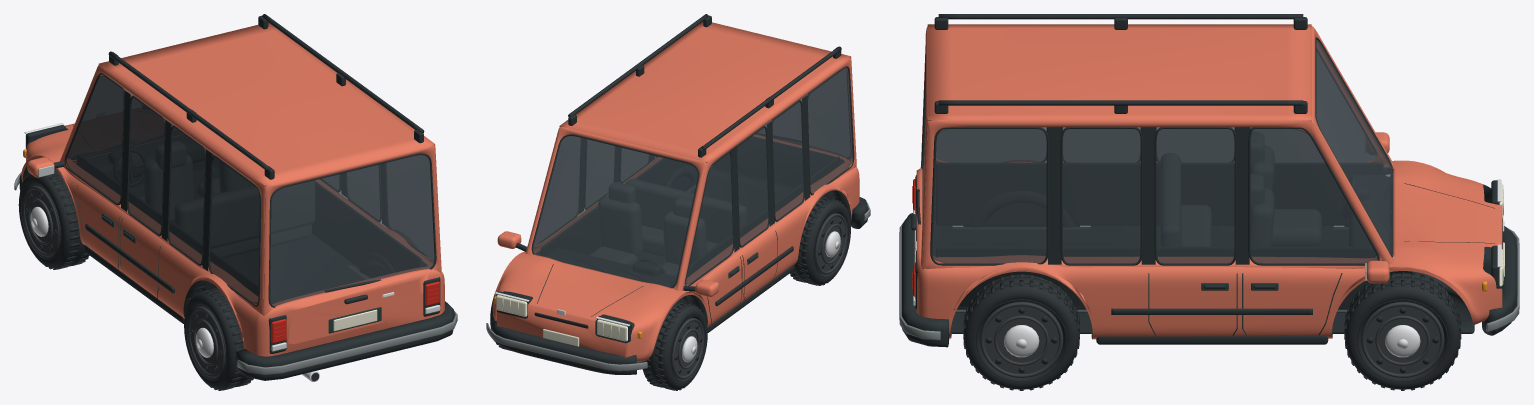
The model's file is minibus.fbx.
The picture shows the model from 3 angles, left to right: view 1: azimuth 30°, elevation 25°; view 2: azimuth 150°, elevation 25°; view 3: azimuth 270°, elevation 25°; orthographic projection. The views are drawn at different scales.
Parts seen in each view (by area): view 1: Body, Wheel_FL_Mesh, Wheel_RL_Mesh, Wheel_RR_Mesh; view 2: Body, Wheel_FL_Mesh, Wheel_RL_Mesh, Wheel_RR_Mesh; view 3: Body, Wheel_FR_Mesh, Wheel_RR_Mesh, Wheel_RL_Mesh.
Boxes of the visible parts, x1=… form: Body: x1=14, y1=14, x2=457, y2=381; Wheel_FL_Mesh: x1=18, y1=168, x2=89, y2=269; Wheel_RL_Mesh: x1=184, y1=287, x2=253, y2=390; Wheel_RR_Mesh: x1=360, y1=253, x2=394, y2=277; Body: x1=486, y1=14, x2=870, y2=374; Wheel_FL_Mesh: x1=641, y1=301, x2=707, y2=390; Wheel_RL_Mesh: x1=790, y1=196, x2=850, y2=285; Wheel_RR_Mesh: x1=666, y1=166, x2=697, y2=190; Body: x1=899, y1=14, x2=1519, y2=347; Wheel_FR_Mesh: x1=1344, y1=272, x2=1461, y2=390; Wheel_RR_Mesh: x1=963, y1=274, x2=1079, y2=390; Wheel_RL_Mesh: x1=963, y1=191, x2=1079, y2=227.
Bounding box in the file's own units: 240 × 222 × 449.
